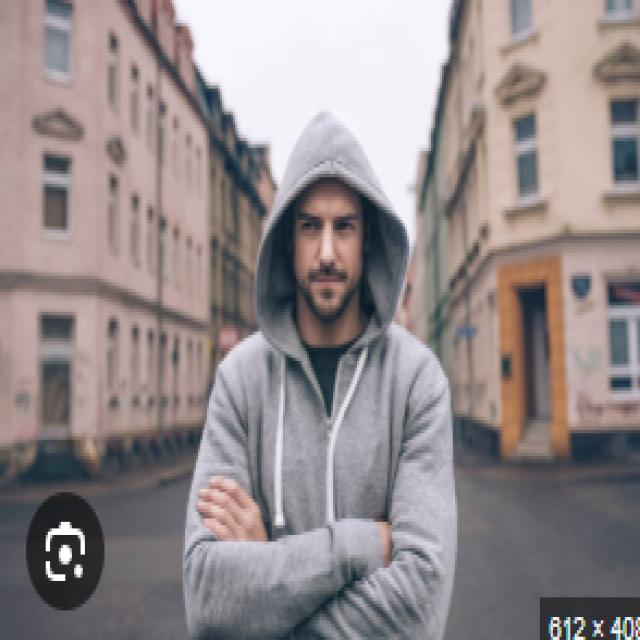4_capucha: (252, 103, 411, 363)
